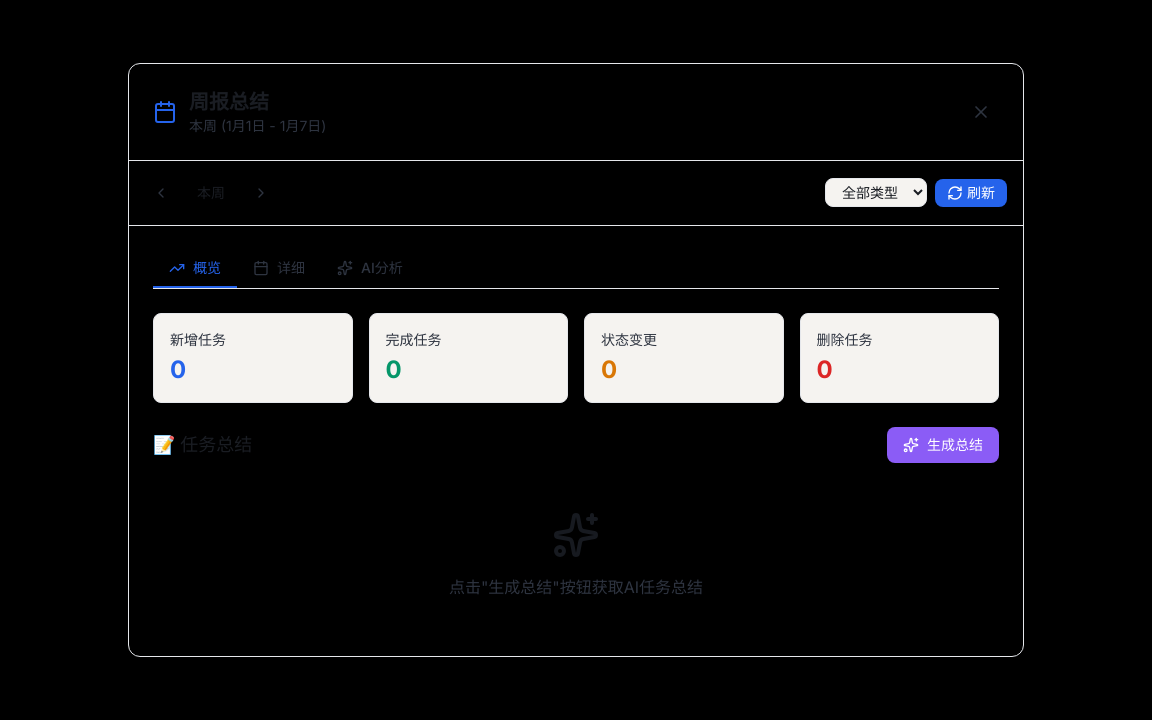
Test: WeeklyReport › should handle empty report data
The width and height of the screenshot is (1152, 720).
Click on details tab
Click the button "详细".
click(279, 269)  # box [237, 250, 321, 288]
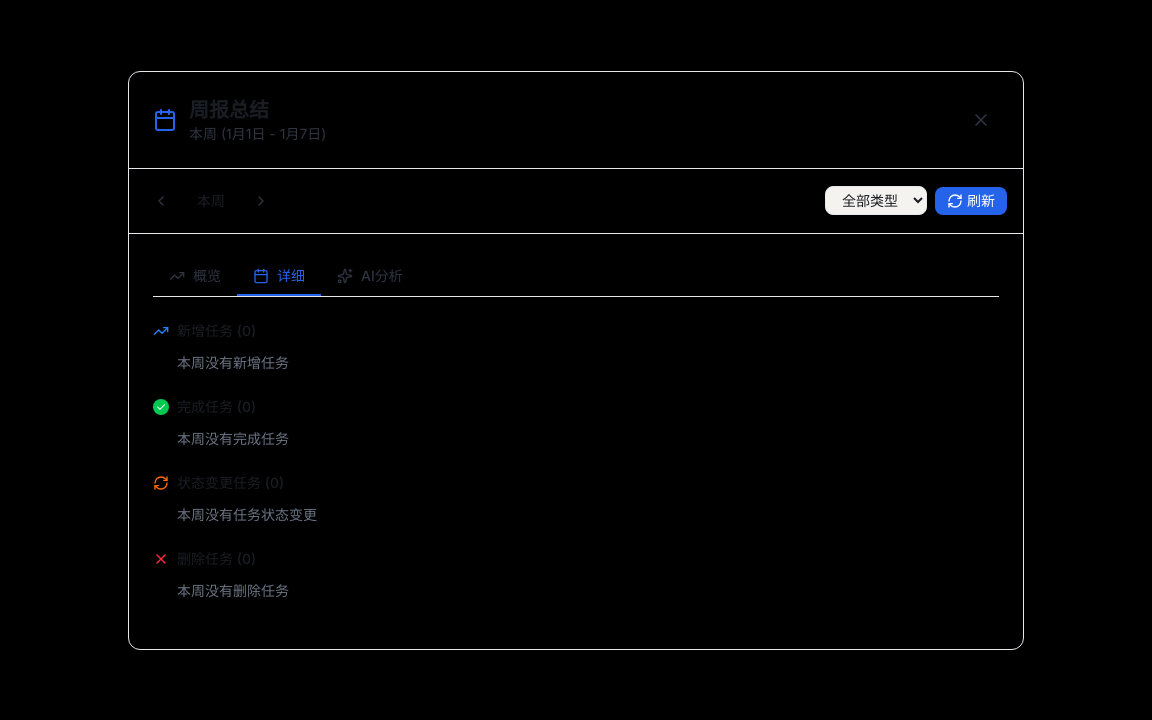
Expected: the text "本周没有新增任务" is shown, [177, 354, 289, 370]
Expected: the text "本周没有完成任务" is shown, [177, 430, 289, 446]
Expected: the text "本周没有任务状态变更" is shown, [177, 506, 317, 522]
